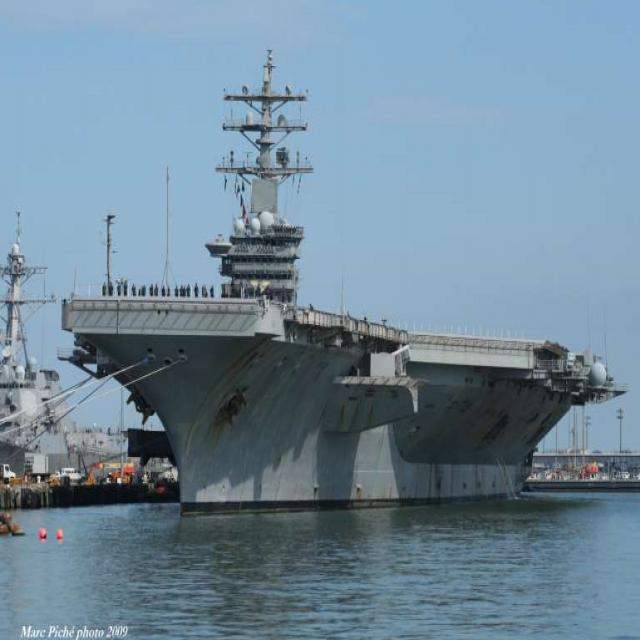Portanaves: (56, 40, 633, 520)
